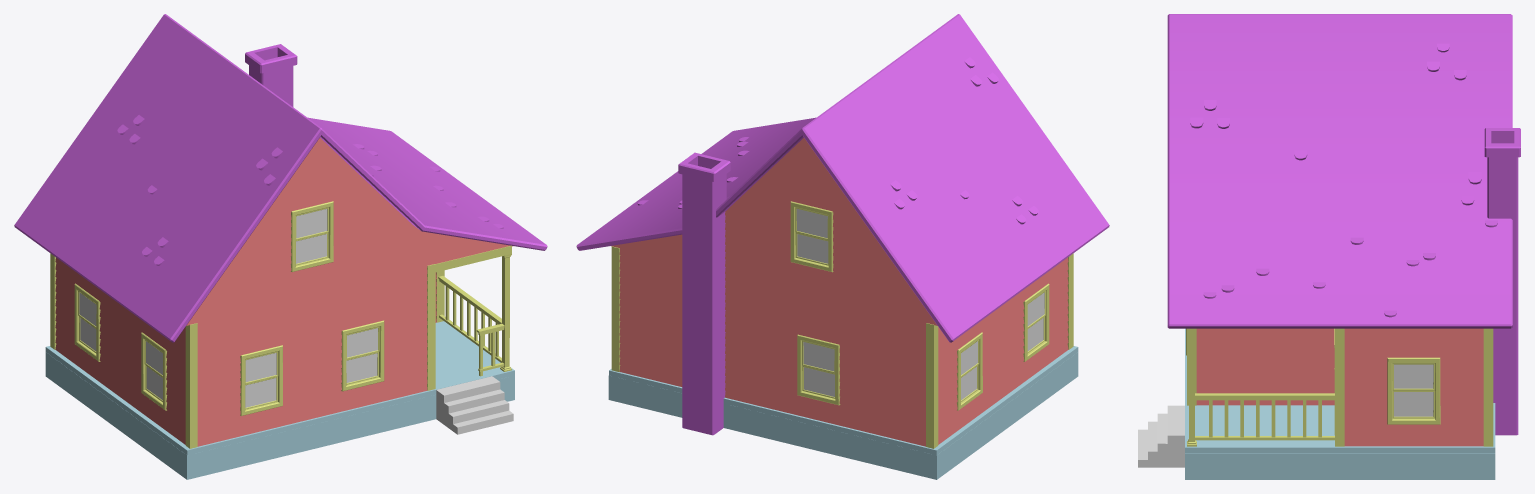
Rendered from build.fbx.
3 renders of one model, left to right at view 1: azimuth 30°, elevation 25°; view 2: azimuth 150°, elevation 25°; view 3: azimuth 270°, elevation 25°, orthographic. The views are drawn at different scales.
Parts seen in each view (by area): view 1: Up, Wall1, Base, Wall3, Down1, Cube, Tube, Border2, Angle3, Angle2, WindowOut, WindowOut.001 (+13 smaller); view 2: Up, Wall4, Tube, Base, Wall3, Down1, Angle5, Angle4, WindowOut.006, WindowOut.005, WindowOutDown.005, WindowUo.005 (+5 smaller); view 3: Up, Wall2, Wall6, Base, Down1, Tube, Border2, Cube, WindowOut.007, Angle4, WindowOutDown.007, WindowUo.007 (+2 smaller).
Part boxes in pixels (left/top/right/bottom): Up: left=14, top=14, right=547, bottom=342; Wall1: left=186, top=138, right=513, bottom=446; Base: left=45, top=352, right=514, bottom=479; Wall3: left=55, top=257, right=185, bottom=444; Down1: left=45, top=321, right=514, bottom=455; Cube: left=436, top=376, right=513, bottom=434; Tube: left=245, top=44, right=297, bottom=106; Border2: left=438, top=276, right=501, bottom=362; Angle3: left=185, top=323, right=197, bottom=448; Angle2: left=427, top=264, right=435, bottom=390; WindowOut: left=341, top=320, right=384, bottom=391; WindowOut.001: left=240, top=345, right=282, bottom=415; Up: left=576, top=14, right=1109, bottom=342; Wall4: left=611, top=138, right=937, bottom=446; Tube: left=678, top=152, right=730, bottom=435; Base: left=608, top=352, right=1078, bottom=479; Wall3: left=938, top=257, right=1068, bottom=444; Down1: left=609, top=346, right=1078, bottom=455; Angle5: left=926, top=323, right=938, bottom=448; Angle4: left=611, top=246, right=620, bottom=371; WindowOut.006: left=790, top=201, right=833, bottom=272; WindowOut.005: left=797, top=334, right=840, bottom=405; WindowOutDown.005: left=802, top=365, right=835, bottom=398; WindowUo.005: left=802, top=340, right=835, bottom=373; Up: left=1167, top=14, right=1512, bottom=328; Wall2: left=1344, top=328, right=1483, bottom=446; Wall6: left=1196, top=328, right=1334, bottom=405; Base: left=1185, top=453, right=1495, bottom=479; Down1: left=1185, top=328, right=1495, bottom=452; Tube: left=1484, top=128, right=1520, bottom=435; Border2: left=1195, top=393, right=1334, bottom=440; Cube: left=1138, top=405, right=1184, bottom=467; WindowOut.007: left=1387, top=357, right=1440, bottom=424; Angle4: left=1483, top=328, right=1493, bottom=446; WindowOutDown.007: left=1392, top=391, right=1435, bottom=418; WindowUo.007: left=1392, top=363, right=1435, bottom=390.
Bounding box in the file's own units: 485 × 400 × 388.
